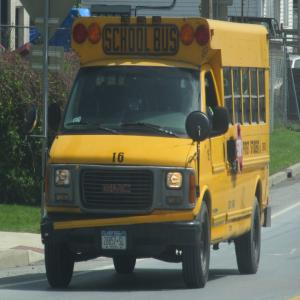Vehicle-registration-plate: (103, 230, 127, 249)
